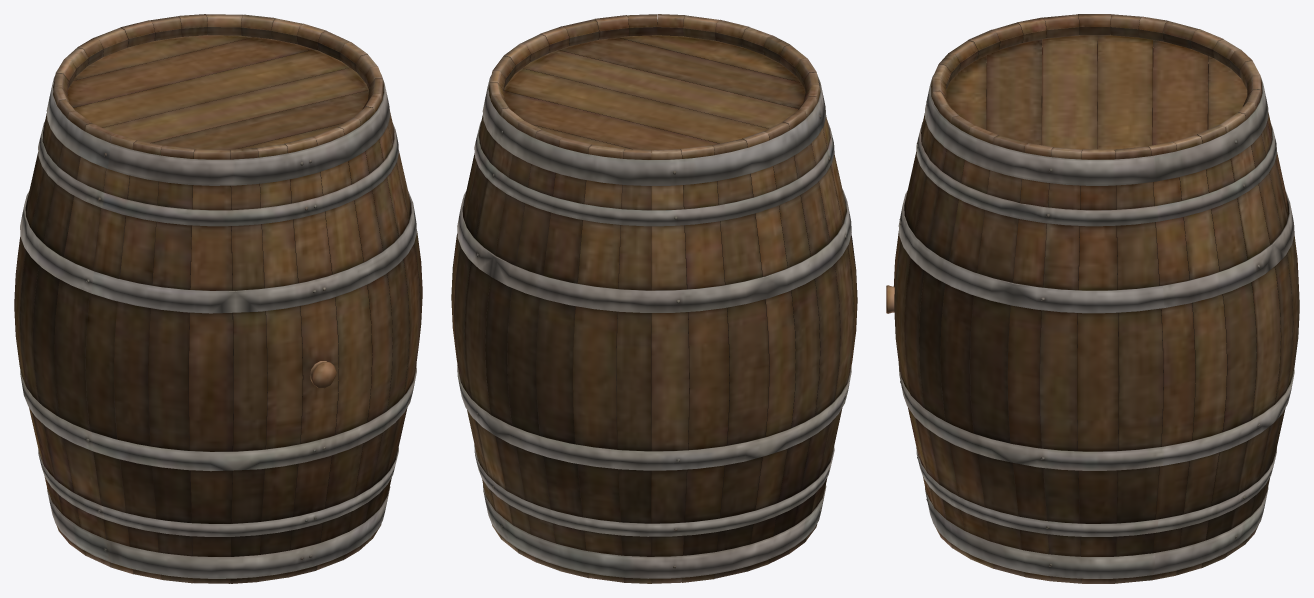
Rendered from barrica.glb.
The picture shows the model from 3 angles, left to right: view 1: azimuth 30°, elevation 25°; view 2: azimuth 150°, elevation 25°; view 3: azimuth 270°, elevation 25°; orthographic projection.
Parts seen in each view (by area): view 1: wine_barrel_01_Lid; view 2: wine_barrel_01_Lid; view 3: wine_barrel_01_Lid.
Part boxes in pixels (<box>): wine_barrel_01_Lid: <box>14,14,422,583</box>; wine_barrel_01_Lid: <box>451,14,857,583</box>; wine_barrel_01_Lid: <box>886,14,1299,583</box>.
Size of the model in its own units: 0.7419 by 0.8695 by 0.7554.
Materials: 1 (1 with a texture image).
